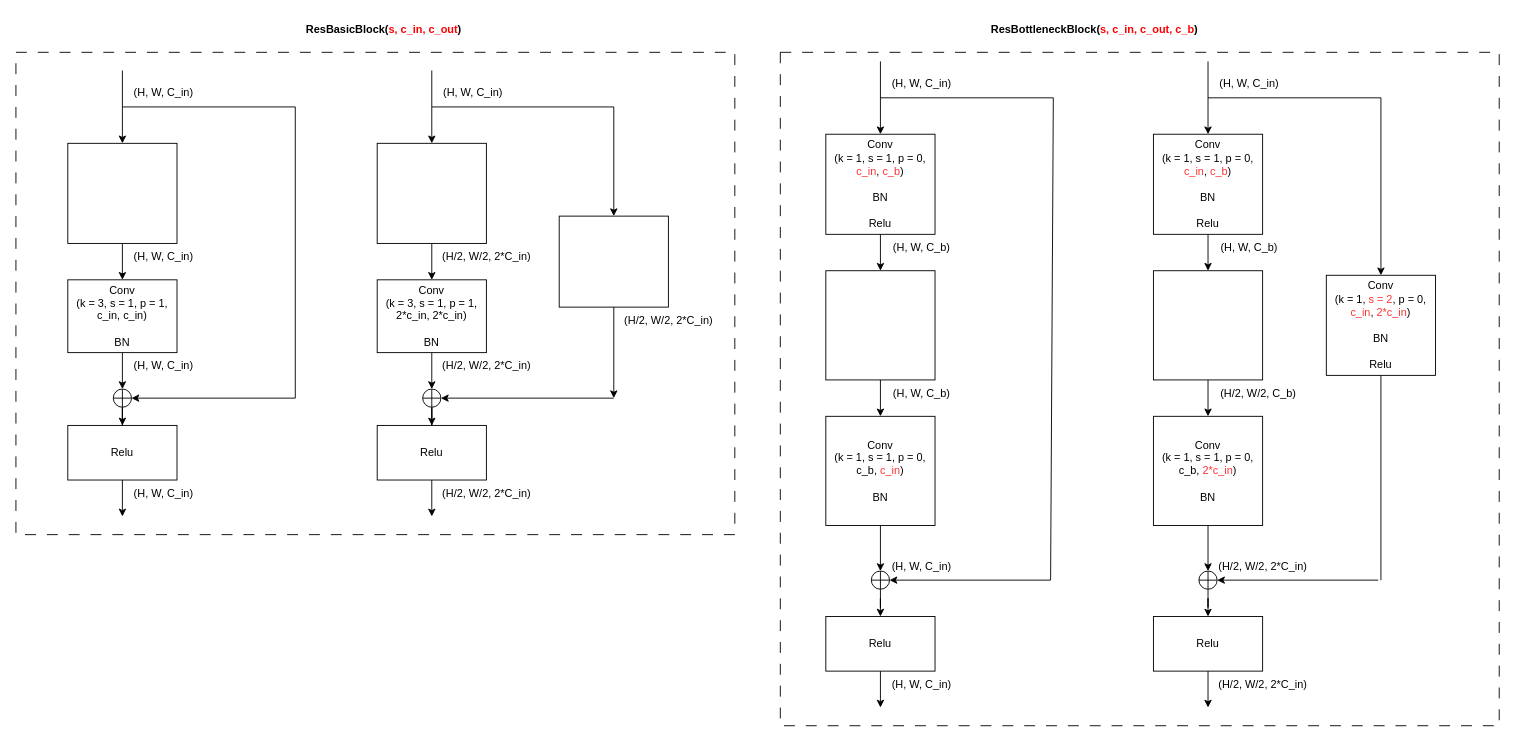
Image size: 1515x742. Some labels were removed from this diagram. The shapes that lost their labels are listed below. From the top down, each one's box as (x1, y1, x2, y2) in pixels, then its label:
(67, 142, 177, 243): Conv (k = 3, s = 1 , p = 1, c_in, c_in ) BN Relu
(376, 142, 486, 243): Conv (k = 3, s = 2 , p = 1, c_in, 2*c_in ) BN Relu
(558, 215, 668, 307): Conv (k = 1, s = 2 , p = 0, c_in, 2*c_in ) BN
(825, 270, 935, 380): Conv (k = 3, s = 1 , p = 1, c_b, c_b) BN Relu
(1153, 270, 1263, 380): Conv (k = 3, s = 2 , p = 1, c_b, c_b) BN Relu
